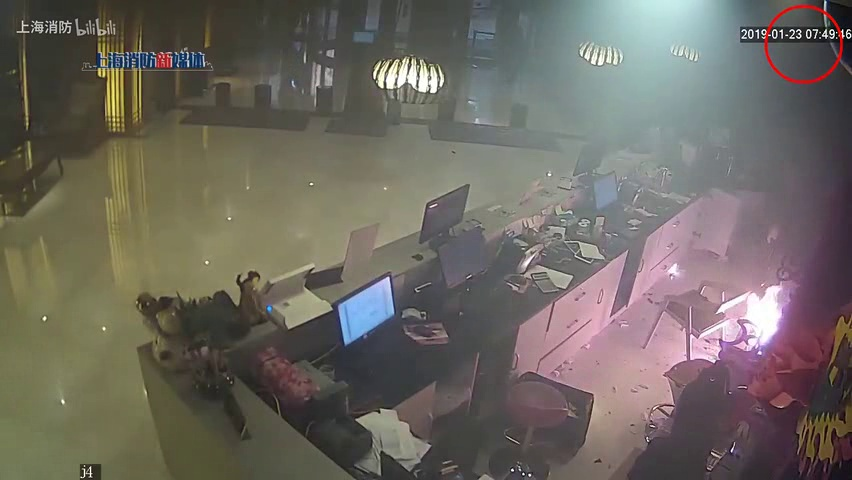fire: (740, 273, 786, 356)
